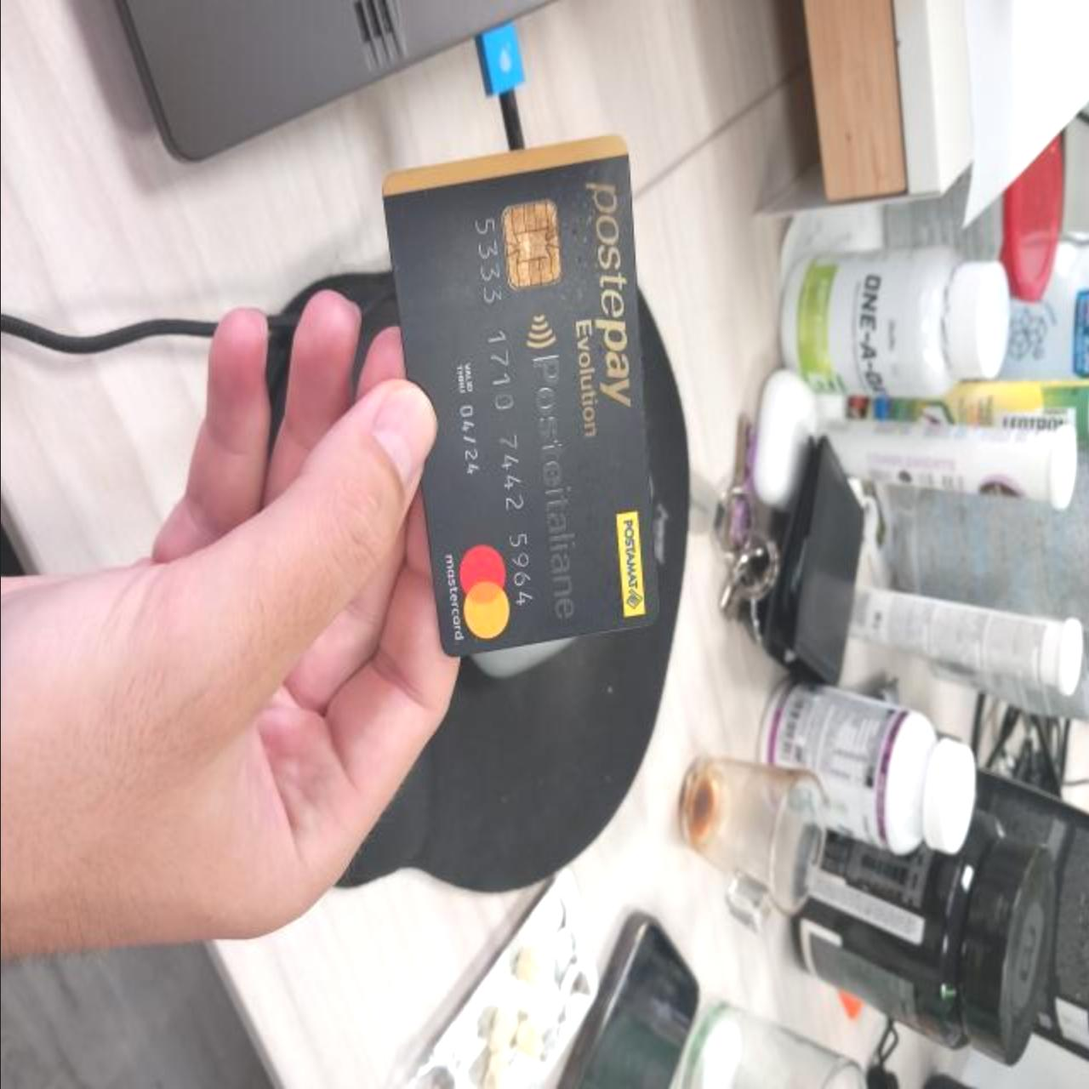credit_card: (395, 140, 667, 660)
